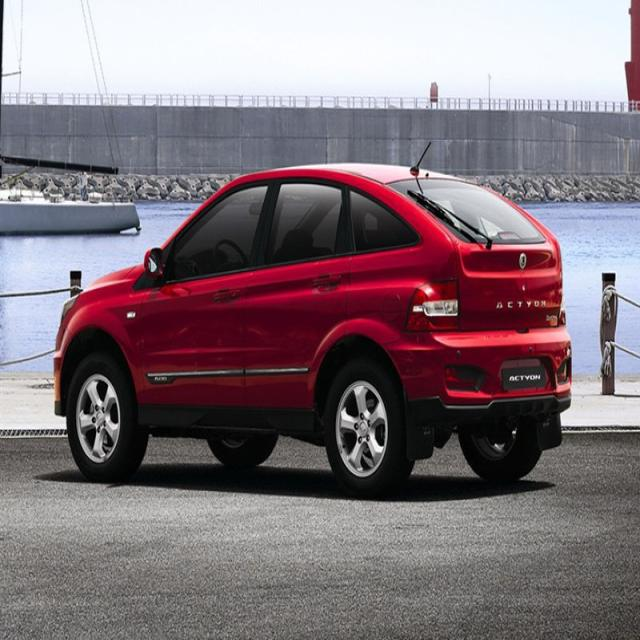back_glass: (382, 176, 546, 246)
back_left_side_light: (404, 276, 460, 334)
door: (242, 167, 358, 413)
front_bumper: (49, 318, 70, 411)
front_left_side_door: (137, 173, 273, 431)
front_left_side_light: (60, 294, 82, 325)
front_left_side_mirror: (143, 246, 168, 282)
rear_bumper: (382, 314, 574, 428)
wheel: (325, 356, 409, 494), (67, 355, 148, 474), (456, 413, 543, 480), (206, 431, 279, 467)
